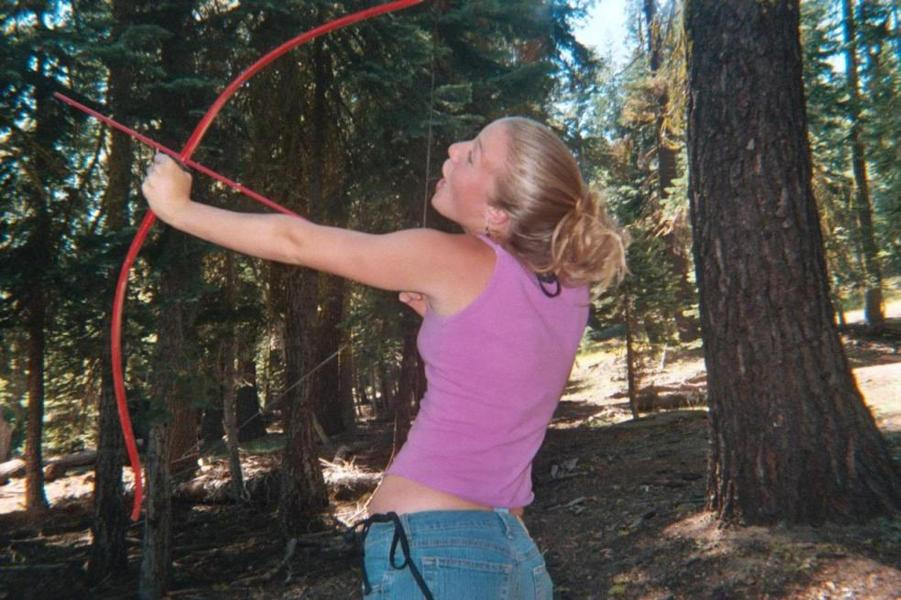person: (143, 115, 632, 600)
